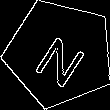N_NE: (28, 22, 91, 86)
